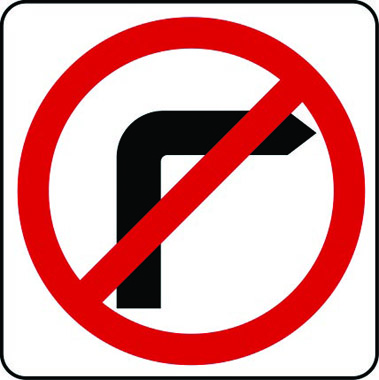No_right_turn: (18, 18, 366, 366)
